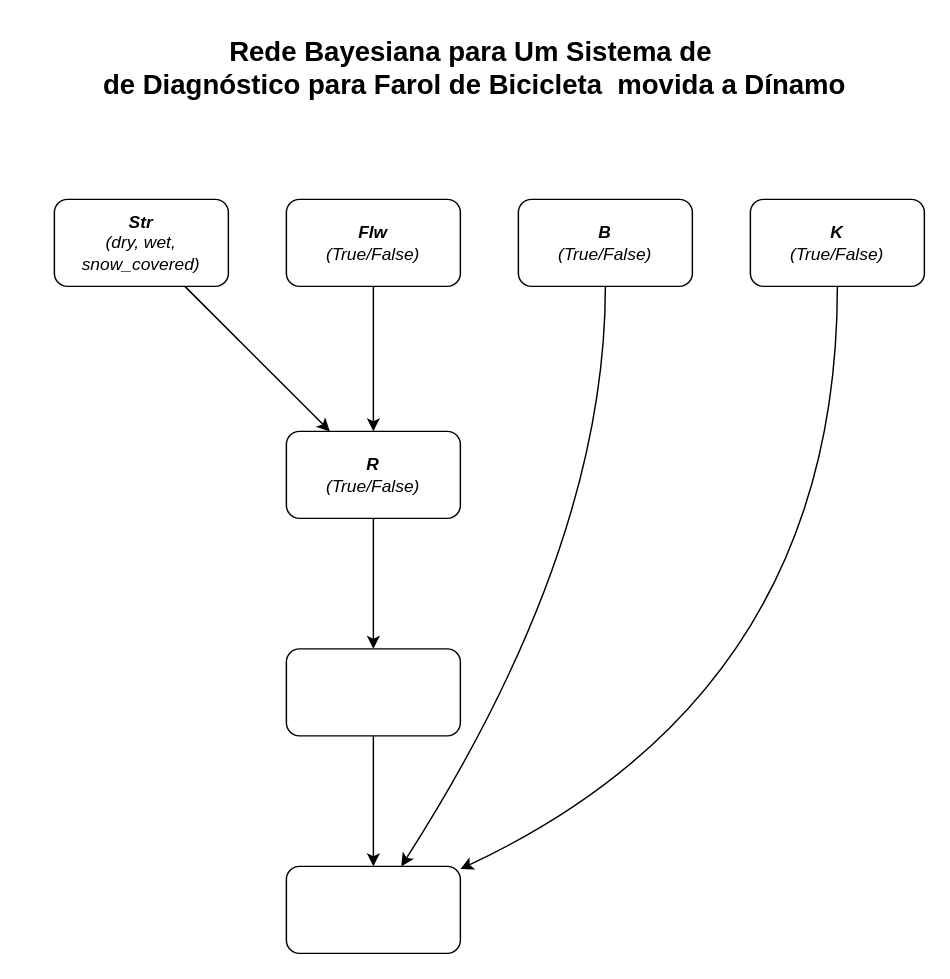
This 950x979 diagram has some shape labels left out. Here are the shapes that lost their labels. From the top down, the centre of each, then its label:
At point 372,691: "V (True/False)".
At point 372,909: "Li (True/False)".
